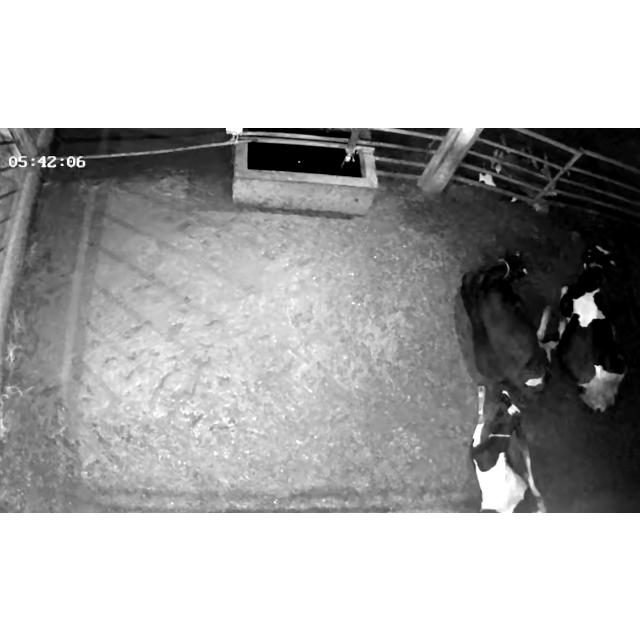lay: (549, 230, 640, 417), (450, 245, 550, 401), (459, 380, 547, 512)
